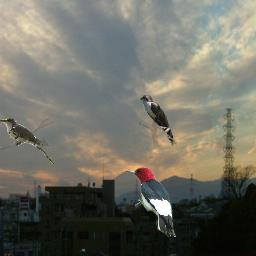Cuckoo: (0, 118, 54, 164), (139, 95, 177, 146)
Woodpecker: (124, 167, 177, 237)
